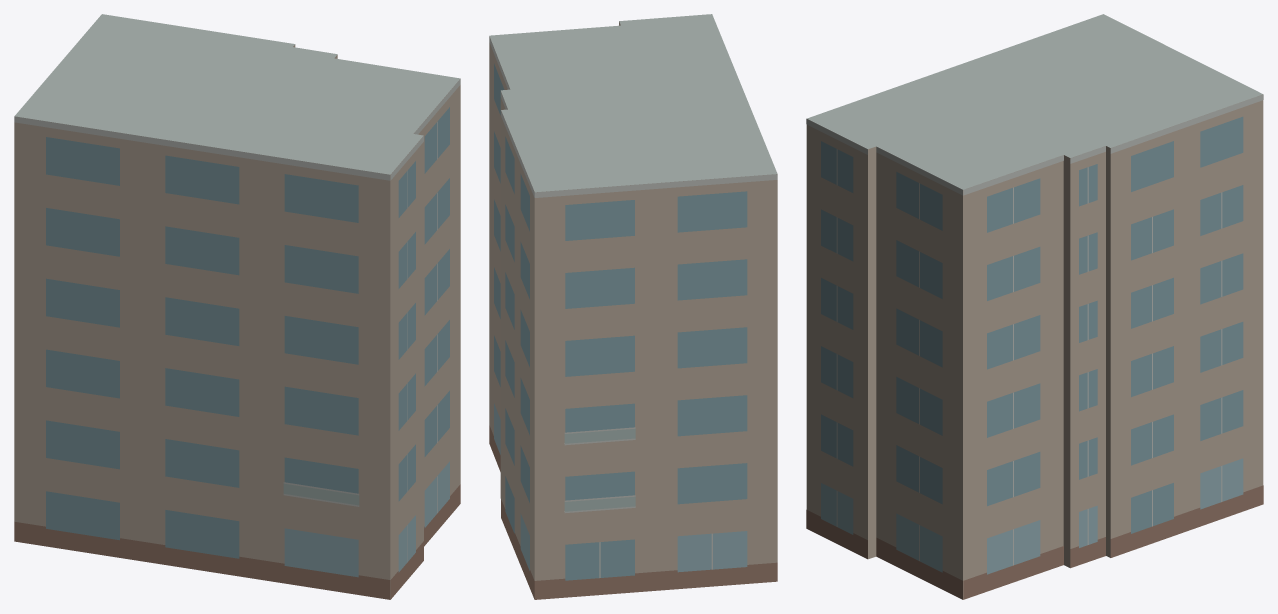
Rendered from survey-upis-32963545.glb.
The picture shows the model from 3 angles, left to right: view 1: azimuth 30°, elevation 25°; view 2: azimuth 150°, elevation 25°; view 3: azimuth 270°, elevation 25°; orthographic projection. The views are drawn at different scales.
Visible parts, largest first — view 1: survey-upis-32963545.tmp; view 2: survey-upis-32963545.tmp; view 3: survey-upis-32963545.tmp.
Boxes of the visible parts, box(x1,y1,x2,y2) form: survey-upis-32963545.tmp: box(14, 14, 460, 599); survey-upis-32963545.tmp: box(489, 14, 777, 599); survey-upis-32963545.tmp: box(806, 14, 1263, 599).
Size of the model in its own units: 15.73 by 17.1 by 17.27.
